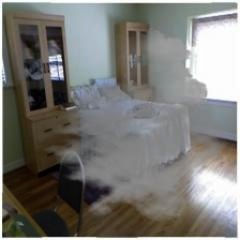smoke: (71, 91, 176, 207)
